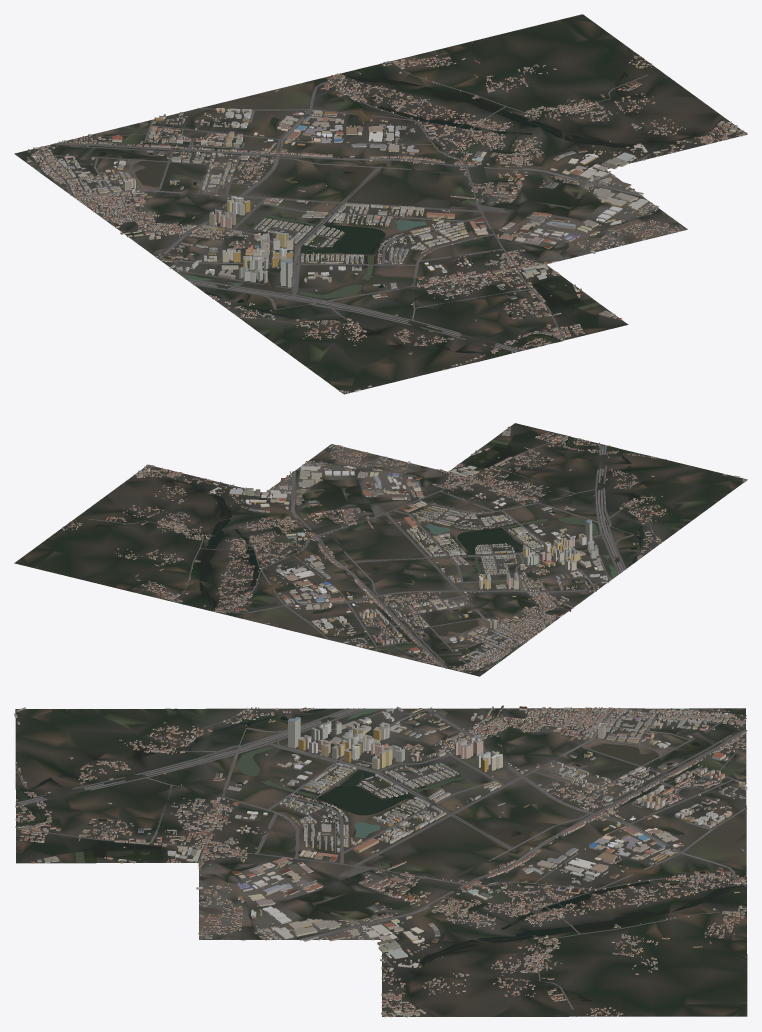
3 views of the same model, one above another, from view 1: azimuth 30°, elevation 25°; view 2: azimuth 150°, elevation 25°; view 3: azimuth 270°, elevation 25° (orthographic). The views are drawn at different scales.
Visible parts, largest first — view 1: ground, buildings, roads, water; view 2: ground, buildings, roads, water; view 3: ground, buildings, roads, water.
Part boxes in pixels (box(x1,y1,x2,y2)): ground: box(14, 14, 747, 394); buildings: box(26, 54, 747, 392); roads: box(29, 61, 650, 393); water: box(36, 72, 722, 361); ground: box(14, 423, 747, 676); buildings: box(61, 426, 745, 673); roads: box(88, 436, 745, 671); water: box(94, 437, 643, 663); ground: box(15, 708, 747, 1016); buildings: box(14, 705, 747, 1017); roads: box(15, 707, 747, 1016); water: box(16, 708, 743, 1013).
Size of the model in its own units: 5641 by 232 by 5633.
